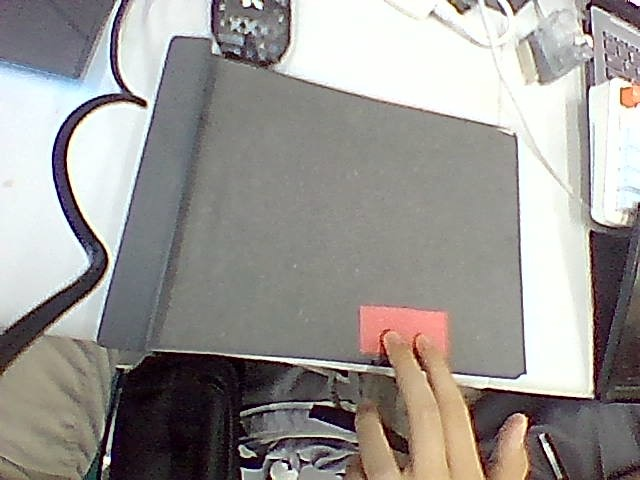card: (359, 306, 447, 354)
